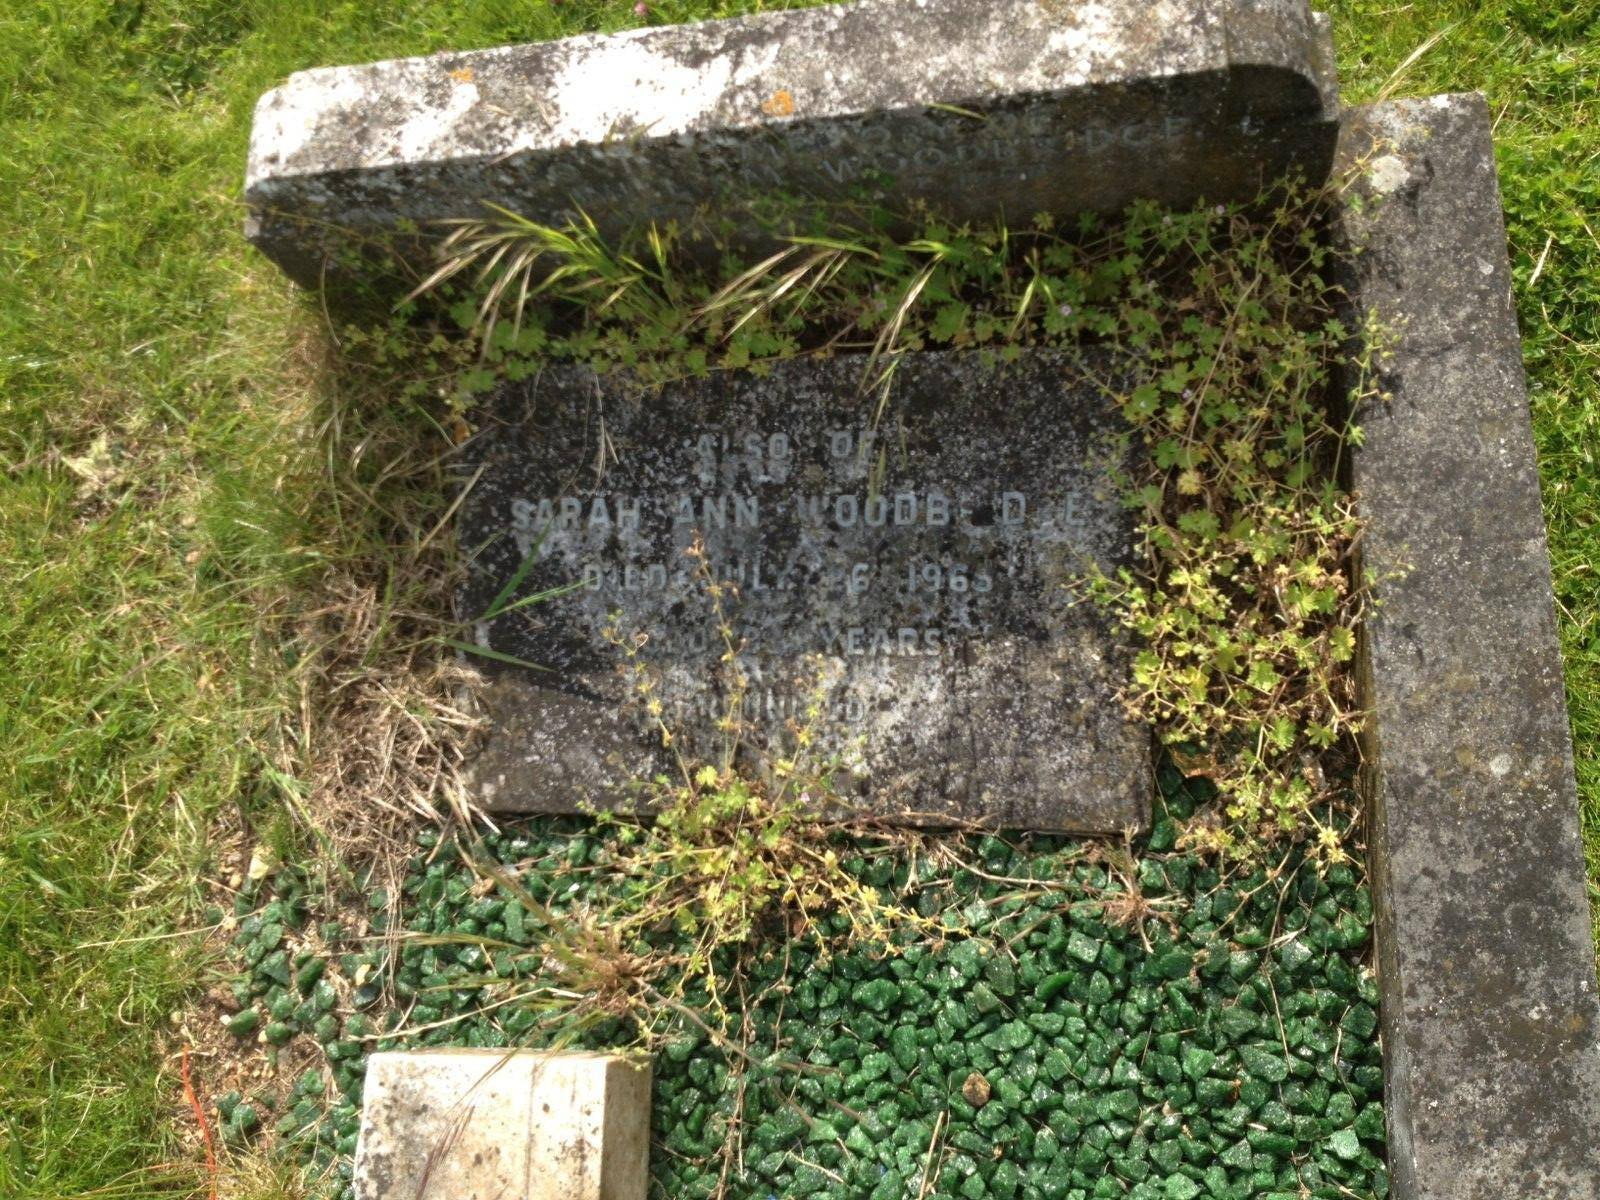flat: (425, 337, 1162, 834)
